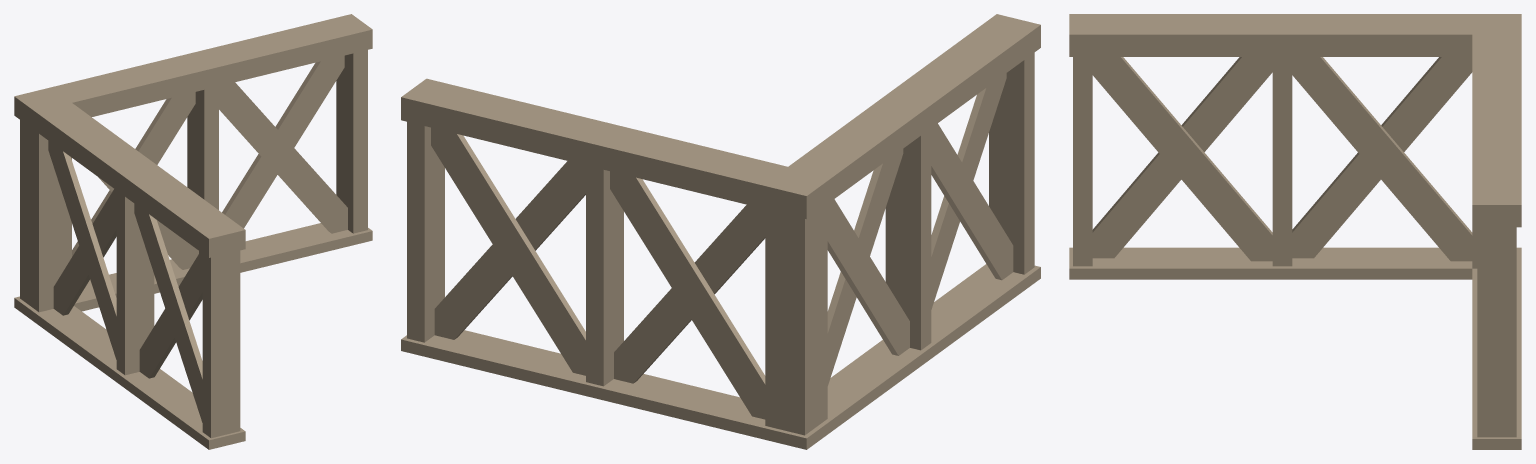
The model's file is 703_corner_fence.glb.
The picture shows the model from 3 angles, left to right: view 1: azimuth 30°, elevation 25°; view 2: azimuth 150°, elevation 25°; view 3: azimuth 270°, elevation 25°; orthographic projection. The views are drawn at different scales.
Visible parts, largest first — view 1: Body1; view 2: Body1; view 3: Body1.
Boxes of the visible parts, x1=… form: Body1: x1=14, y1=14, x2=372, y2=449; Body1: x1=401, y1=14, x2=1040, y2=449; Body1: x1=1069, y1=14, x2=1521, y2=449.
Bounding box in the file's own units: 1.84 × 1.1 × 1.84.
